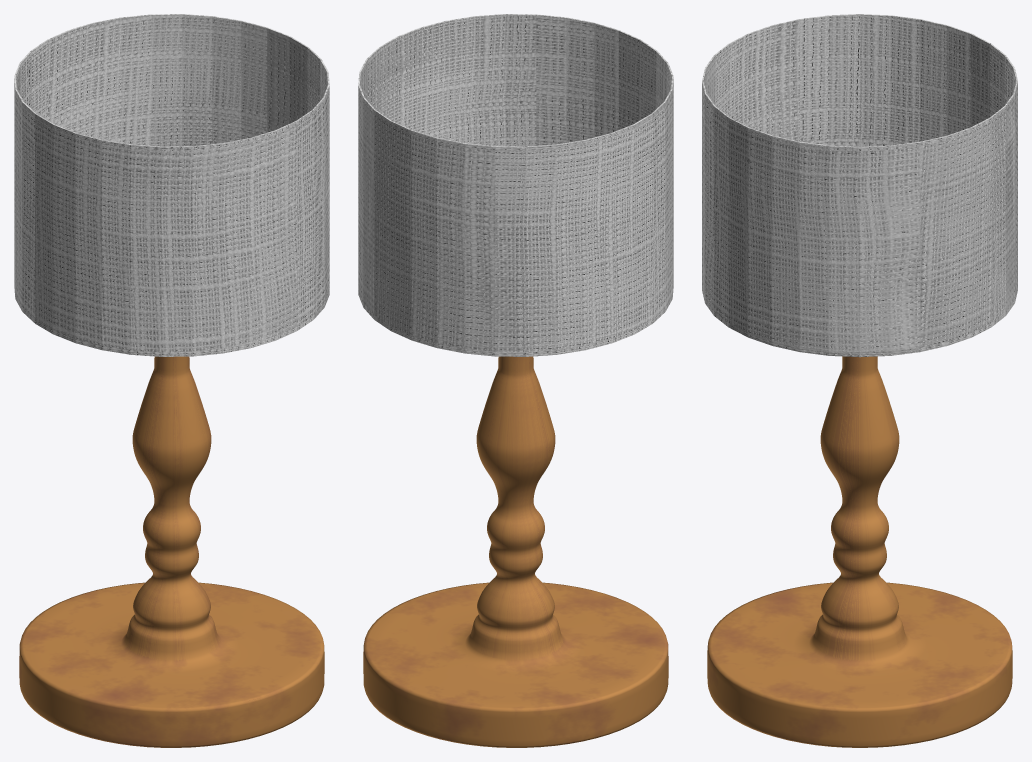
File: lamp.glb
The picture shows the model from 3 angles, left to right: view 1: azimuth 30°, elevation 25°; view 2: azimuth 150°, elevation 25°; view 3: azimuth 270°, elevation 25°; orthographic projection.
Visible parts, largest first — view 1: TOP, BODY; view 2: TOP, BODY; view 3: TOP, BODY.
Part boxes in pixels (x1,y1,x2,y2): TOP: (14, 14, 329, 356); BODY: (19, 356, 324, 747); TOP: (358, 14, 673, 356); BODY: (363, 356, 668, 747); TOP: (702, 14, 1017, 357); BODY: (707, 356, 1012, 747).
Size of the model in its own units: 1.77 by 3.72 by 1.77.
4 materials, 2 textured.
